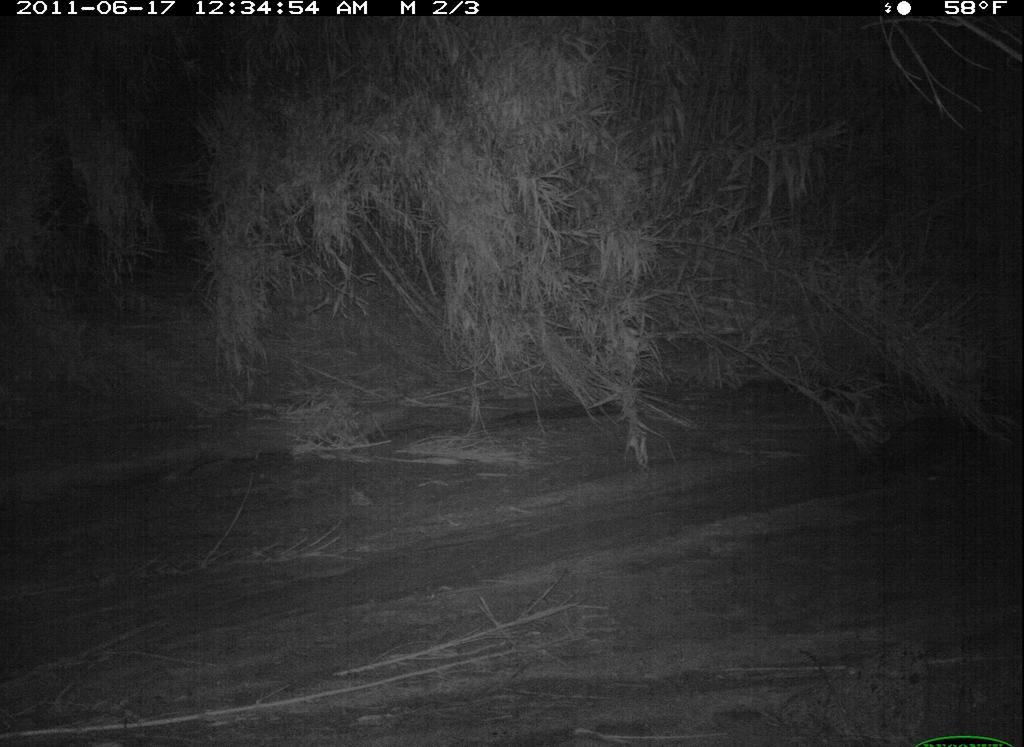raccoon: (849, 403, 994, 491)
